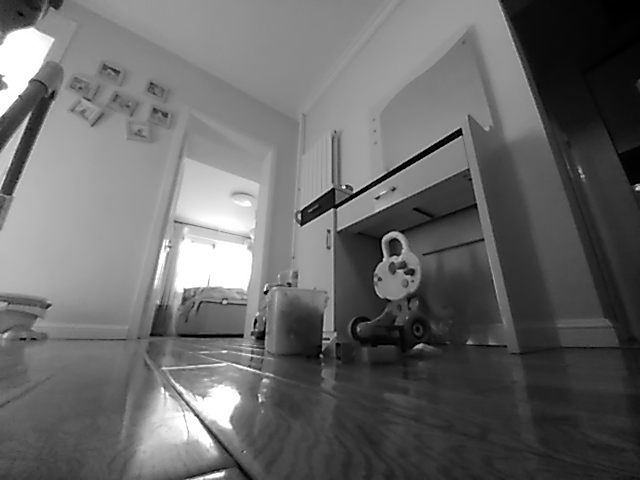curtain: (151, 222, 184, 336)
others: (264, 322, 326, 360)
toy: (348, 306, 463, 355)
